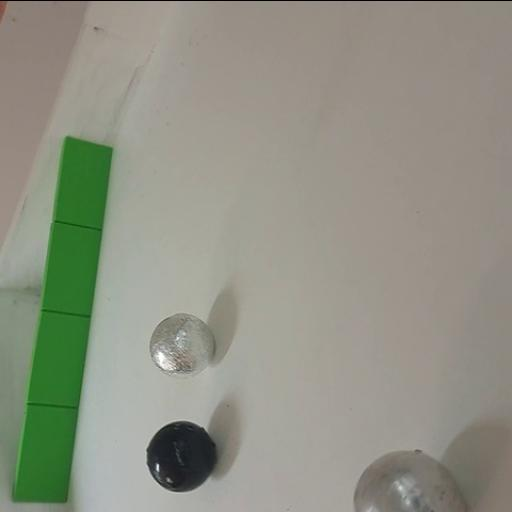alive: (353, 448, 469, 512), (148, 311, 214, 379)
dead: (144, 418, 216, 494)
